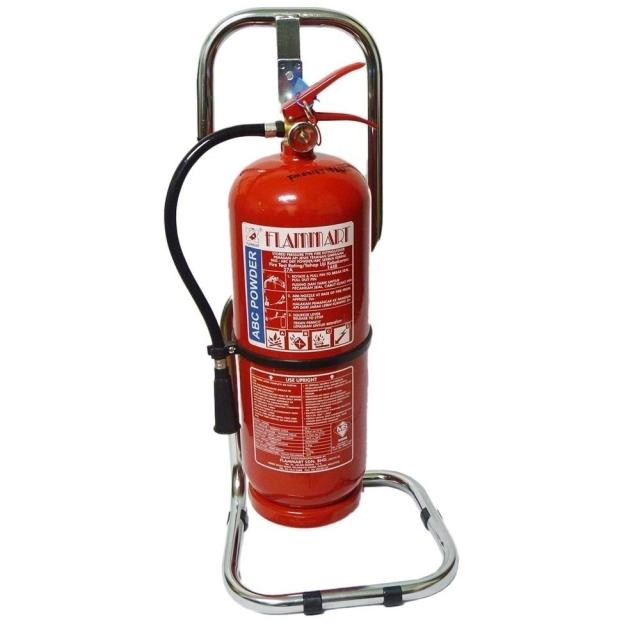fire_extinguisher: (158, 58, 380, 535)
